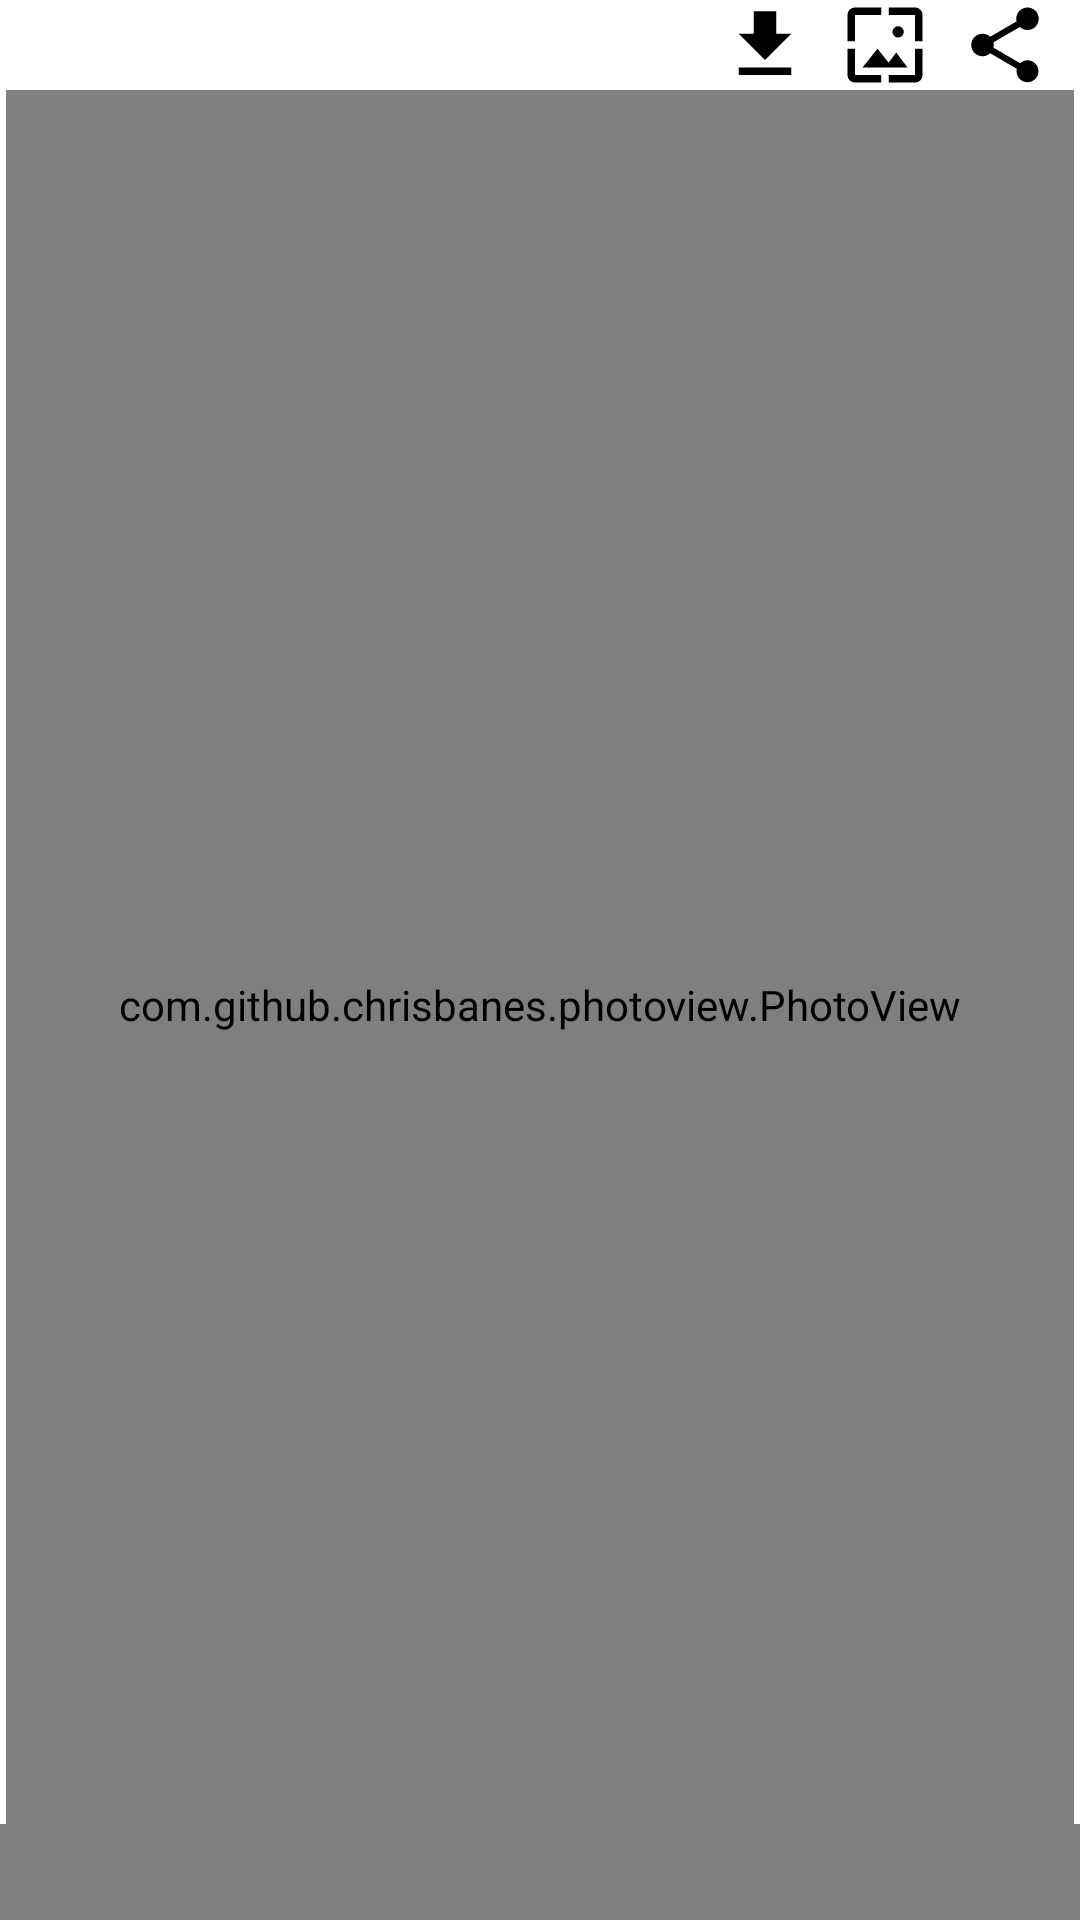

Where icons sit on this 1080 x 1920 app screen, as (x1, y1, x2, y2):
download: (738, 11, 792, 75)
share: (971, 7, 1039, 83)
